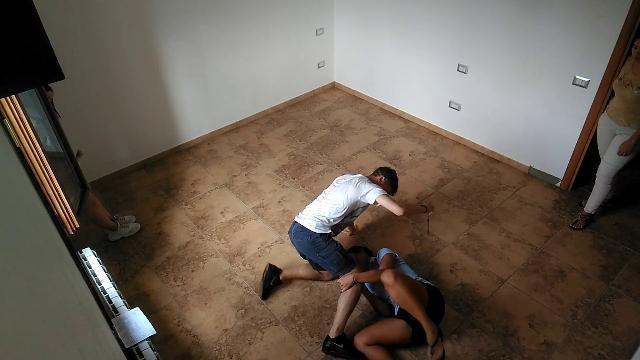non-violence: (570, 35, 640, 235)
violence: (251, 164, 457, 360)
